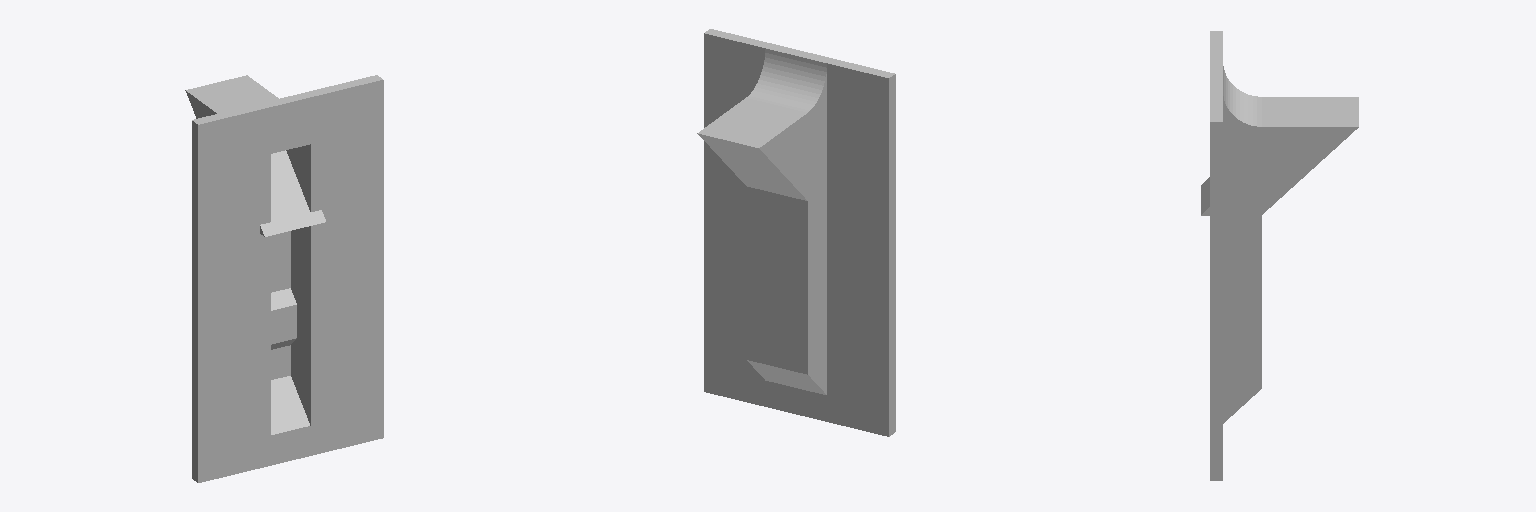
The model's file is mouse_(6).obj.
3 renders of one model, left to right at view 1: azimuth 30°, elevation 25°; view 2: azimuth 150°, elevation 25°; view 3: azimuth 270°, elevation 25°, orthographic.
Parts seen in each view (by area): view 1: Glass; view 2: Glass; view 3: Glass.
Boxes of the visible parts, x1,y1,x2,y2 form: Glass: [185, 75, 383, 482]; Glass: [697, 29, 895, 436]; Glass: [1201, 31, 1358, 480].
Bounding box in the file's own units: 1.65 × 3.05 × 1.23.